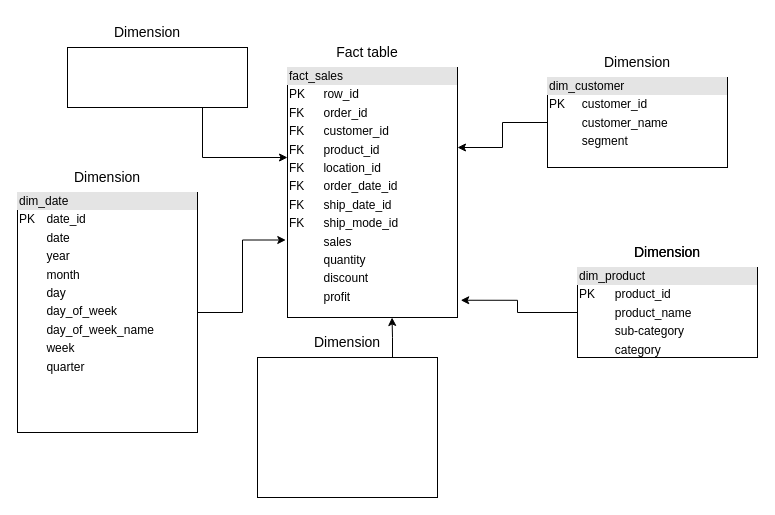
Some shapes in this 775 by 515 pixel diagram are drawn without their labels. The centre of each missing label's shape, as x and y in pixels:
dim_location PK location_id country city state region postal_code: the point at 347,427
dim_ship_mode PK ship_mode_id ship_mode: the point at 157,77
